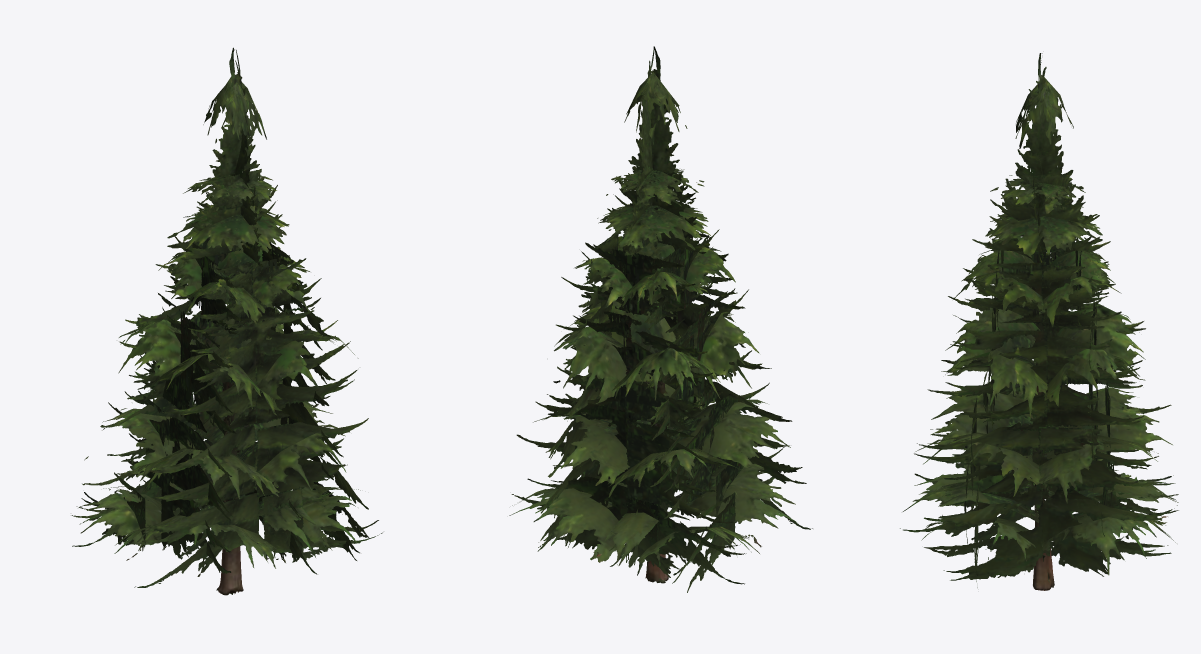
The model's file is fir-spire-mid.glb.
The picture shows the model from 3 angles, left to right: view 1: azimuth 30°, elevation 25°; view 2: azimuth 150°, elevation 25°; view 3: azimuth 270°, elevation 25°; orthographic projection. The views are drawn at different scales.
Parts seen in each view (by area): view 1: Foliage, Wood; view 2: Foliage, Wood; view 3: Foliage, Wood.
Boxes of the visible parts, x1,y1,x2,y2 form: Foliage: (71,47,382,587); Wood: (126,382,350,595); Foliage: (509,46,812,592); Wood: (593,376,761,583); Foliage: (900,53,1178,587); Wood: (938,423,1167,590).
Size of the model in its own units: 6.56 by 12.14 by 6.07.
Materials: 2 (2 with a texture image).
